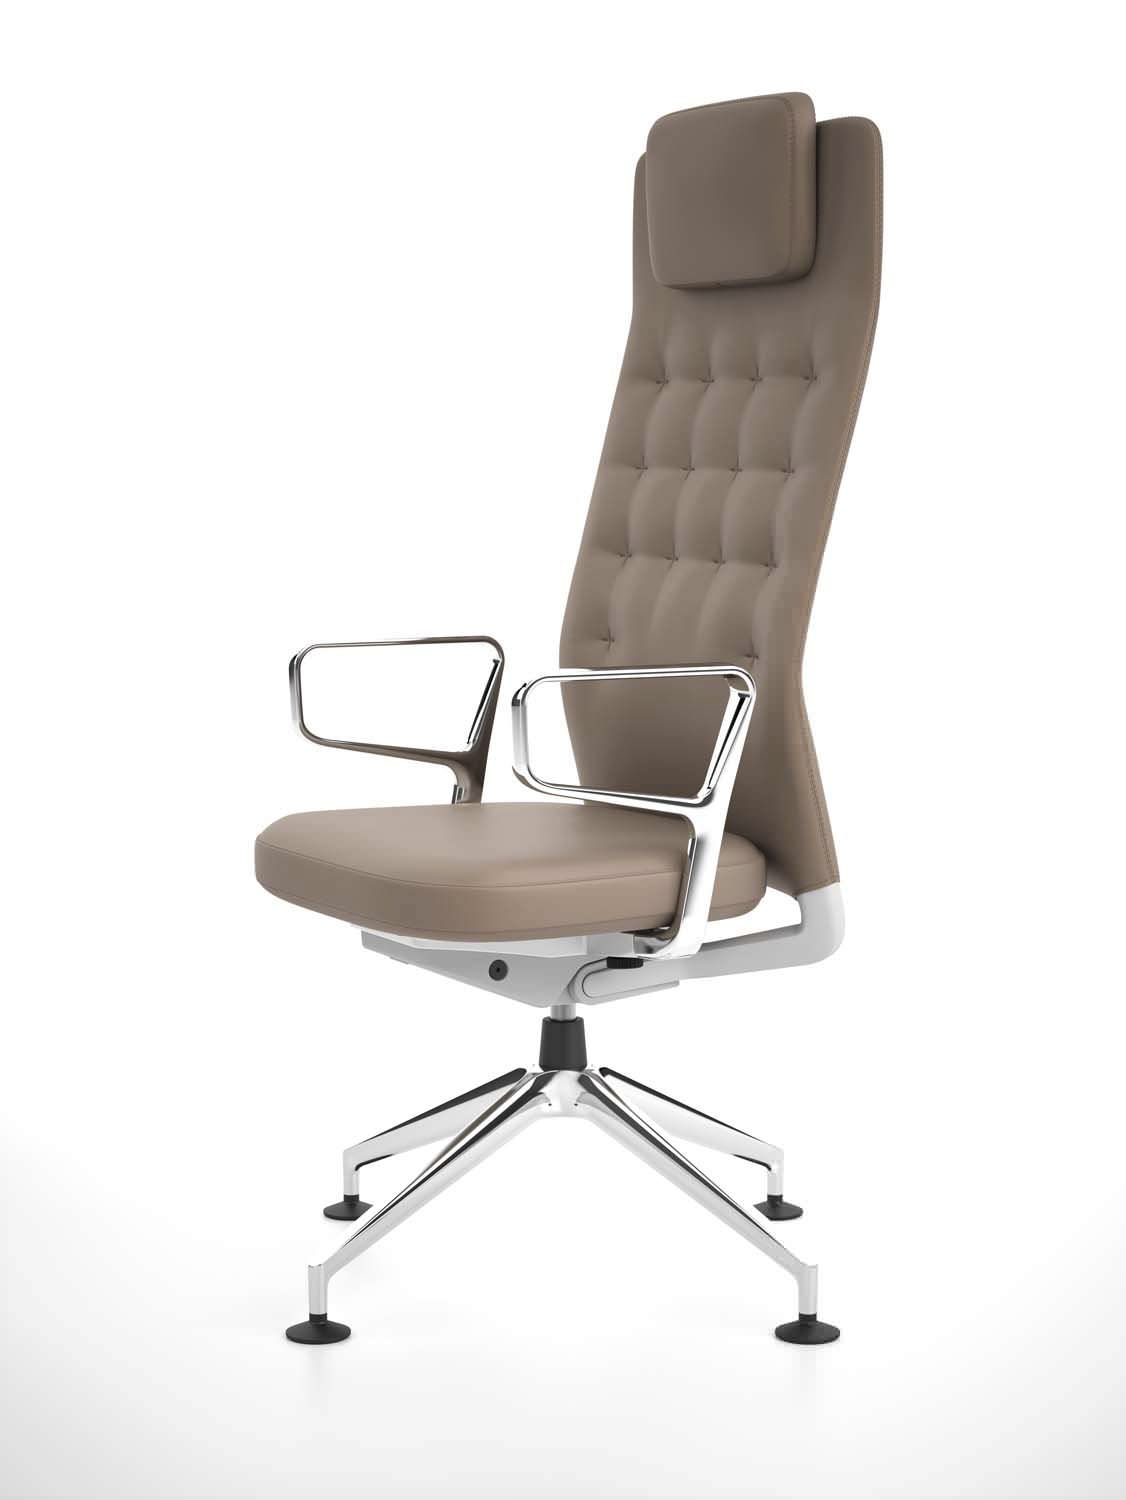chairs: (251, 90, 889, 1349)
